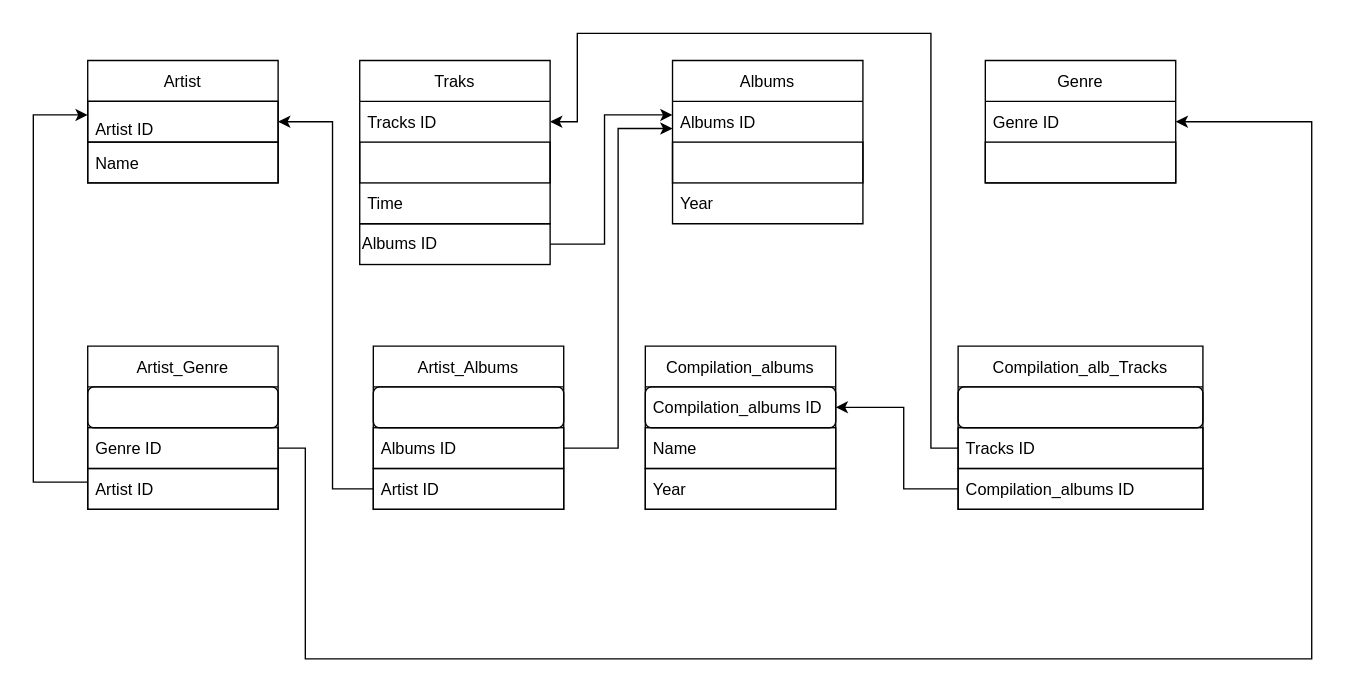
The diagram is 1346 pixels wide and 694 high, and some of its shapes have lost their labels. The shapes that lost their labels are listed below. From the top down, each one's centre as x and y in pixels, then its label:
At (x=454, y=162): "Title".
At (x=767, y=162): "Album Name".
At (x=1080, y=162): "Genre Name".
At (x=182, y=407): "Artist_Genre ID".
At (x=468, y=407): "Artist_Albums ID".
At (x=1080, y=407): "Compilation_alb_Tracks ID".
